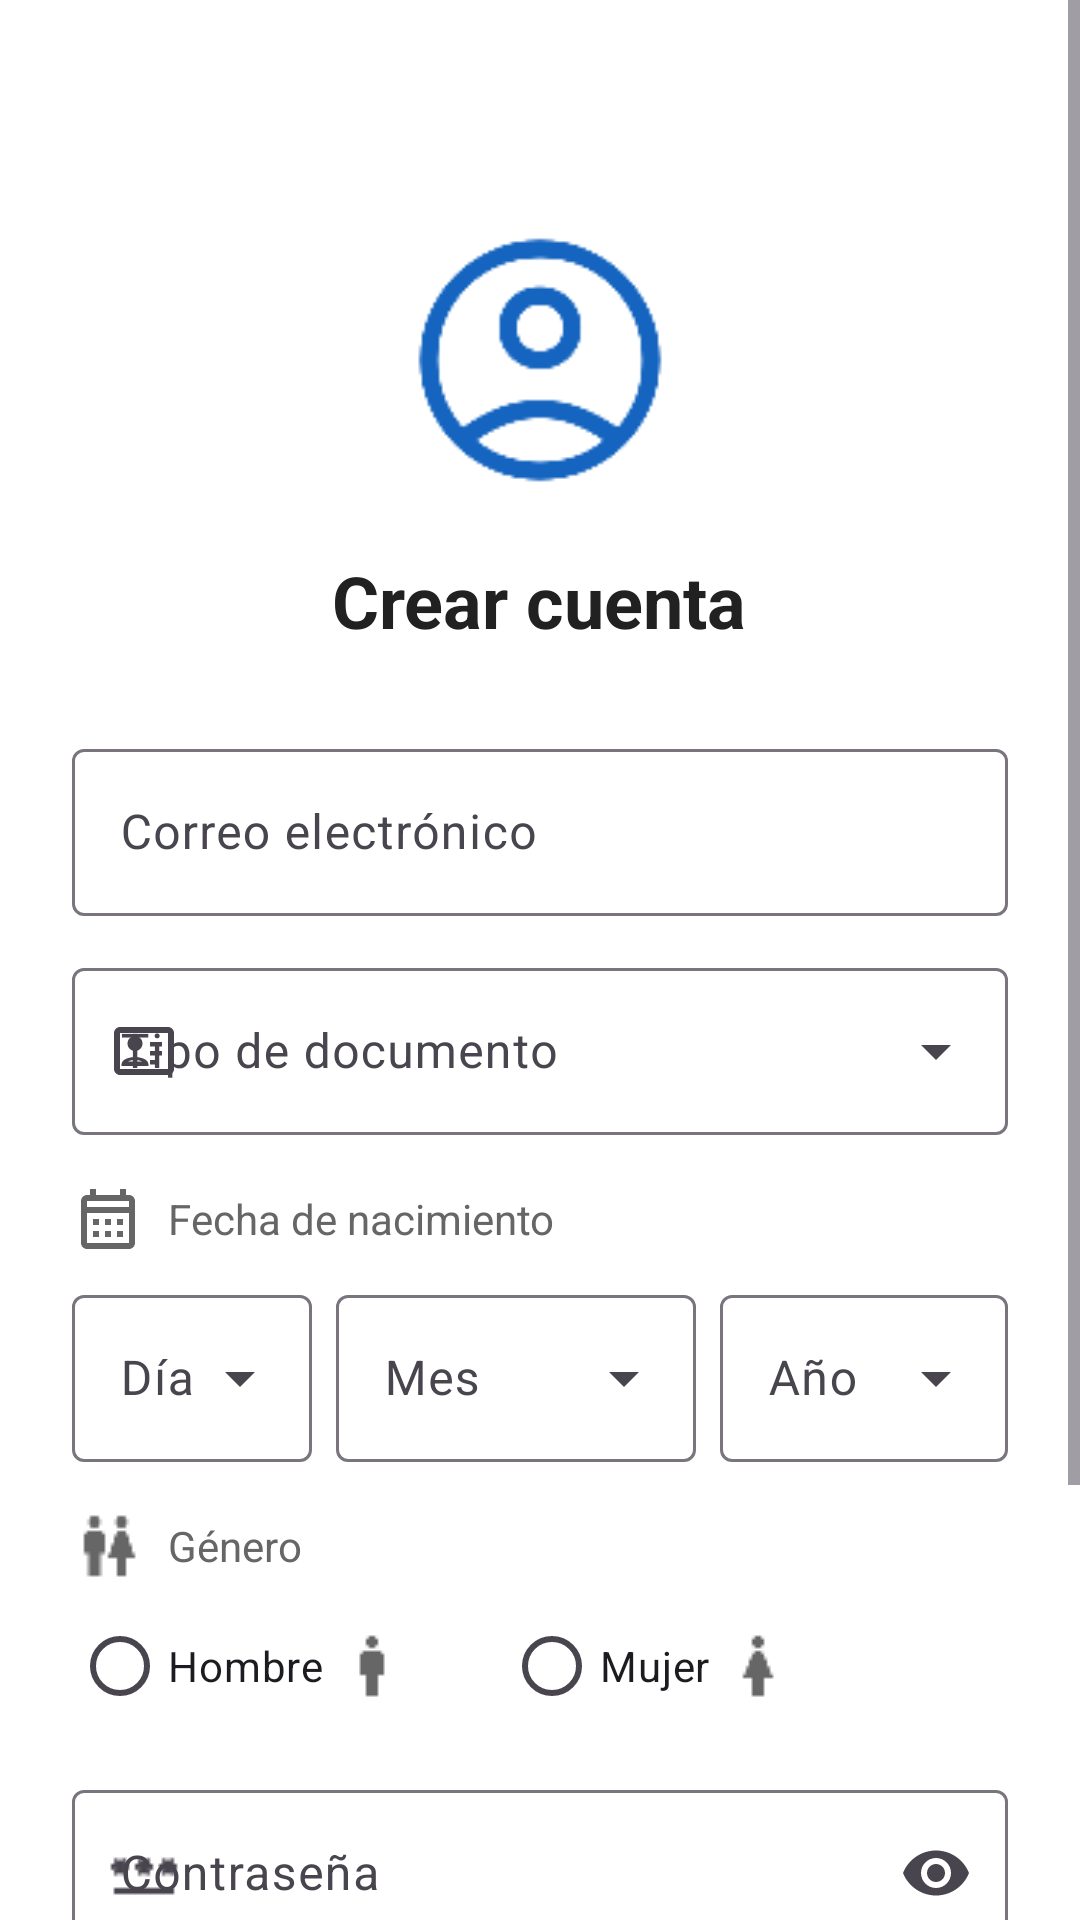

Where icons sit on this 1080w x 1920h app screen, as (x1=x1, y1=y1, x2=x2, y2=y2):
Usuario: (x1=418, y1=238, x2=662, y2=482)
